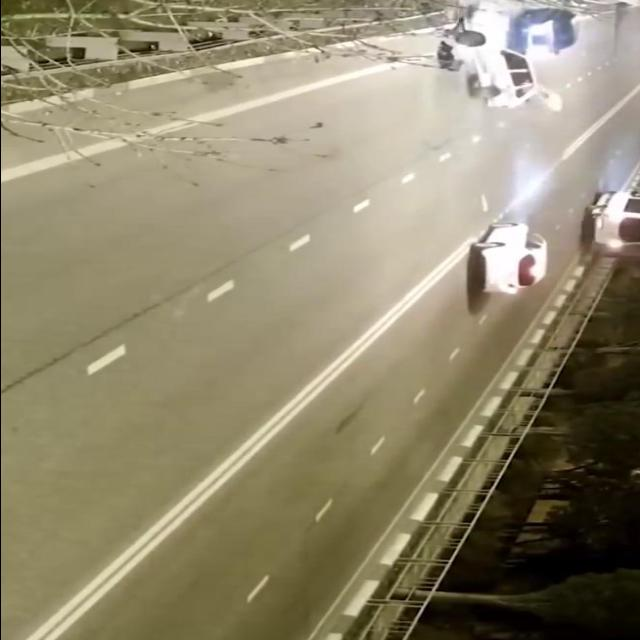accident: (423, 4, 577, 116)
